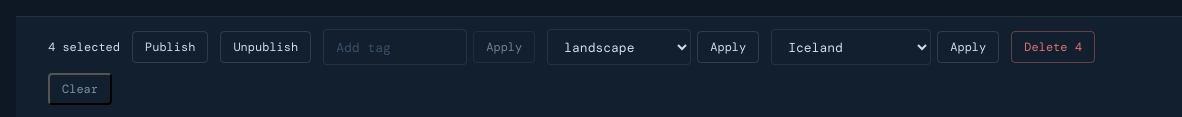
Test case: BulkBar › clicking another control while confirming delete cancels the confirm
Click the button "Delete 4".
click(1053, 47)  # box x1=1011 y1=31 x2=1095 y2=63
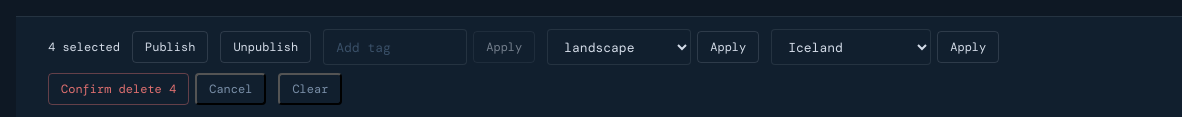
Now the button "Confirm delete 4" is shown, box x1=48 y1=73 x2=189 y2=105
Click the button "Publish".
click(170, 47)  # box x1=132 y1=31 x2=208 y2=63
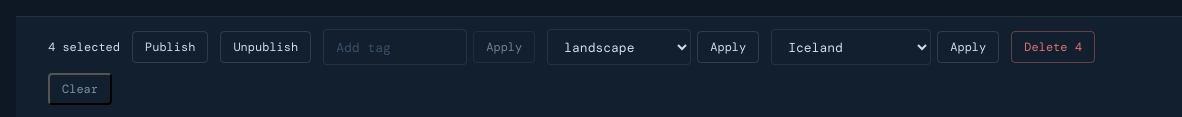
Expected: the button "Delete 4" is shown, x1=1011 y1=31 x2=1095 y2=63
Now the button "Confirm delete 4" is gone
